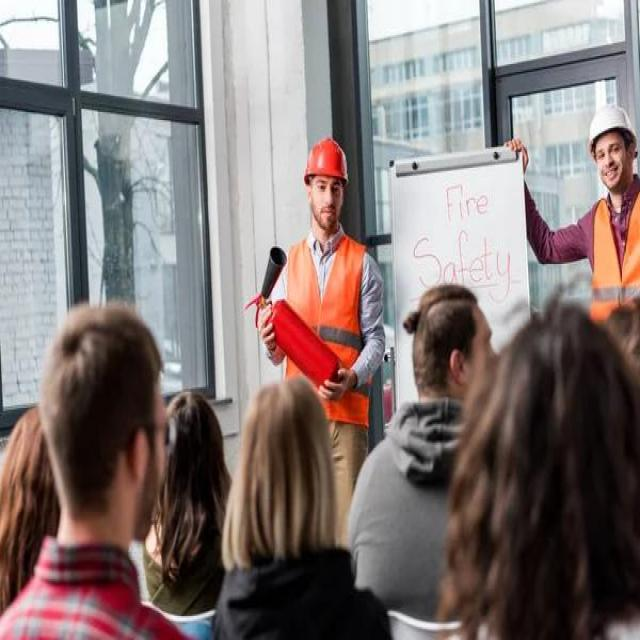fire_extinguisher: (241, 239, 346, 398)
